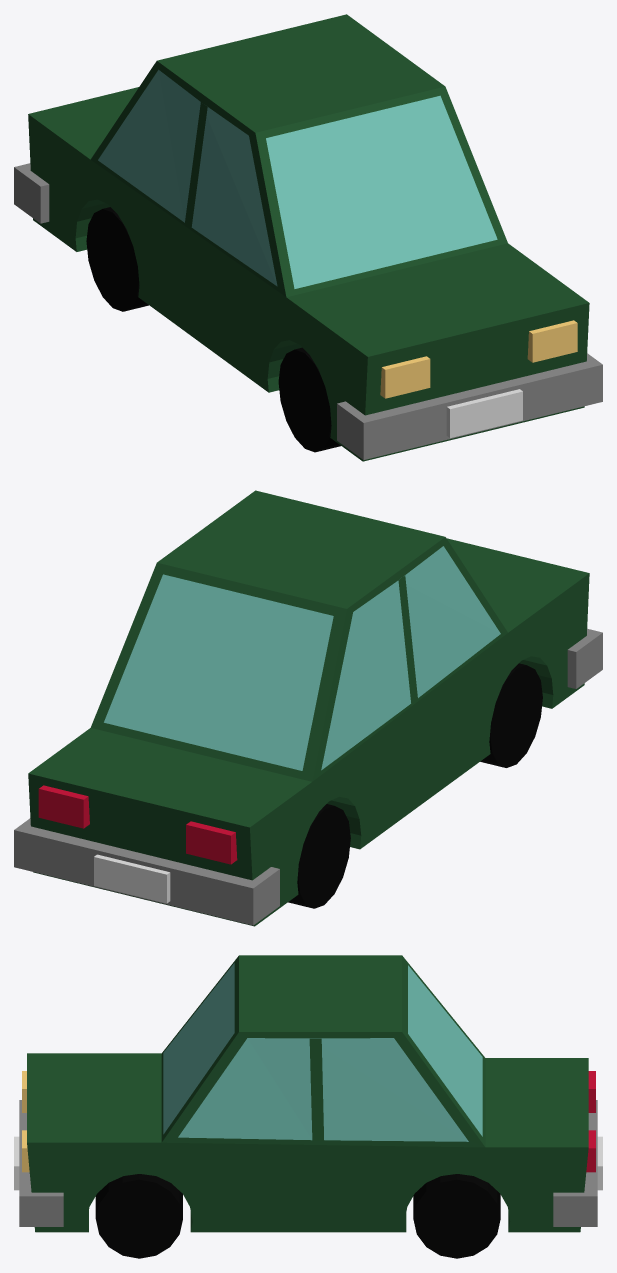
The model's file is vehicle-fix_draco.glb.
The picture shows the model from 3 angles, top to bottom: view 1: azimuth 30°, elevation 25°; view 2: azimuth 150°, elevation 25°; view 3: azimuth 270°, elevation 25°; orthographic projection. The views are drawn at different scales.
Visible parts, largest first — view 1: Cube; view 2: Cube; view 3: Cube.
Boxes of the visible parts, <box> form: Cube: <box>14,14,602,461</box>; Cube: <box>14,490,602,926</box>; Cube: <box>14,955,602,1258</box>.
Bounding box in the file's own units: 0.5192 × 0.558 × 1.34.
